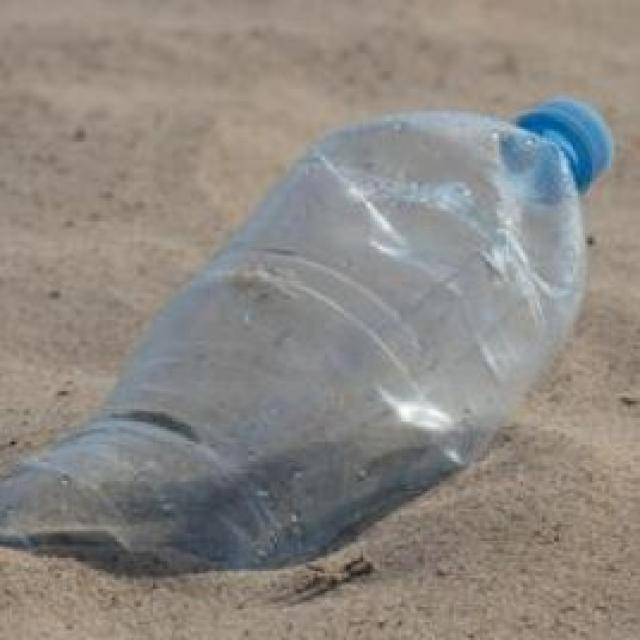general: (0, 94, 614, 576)
